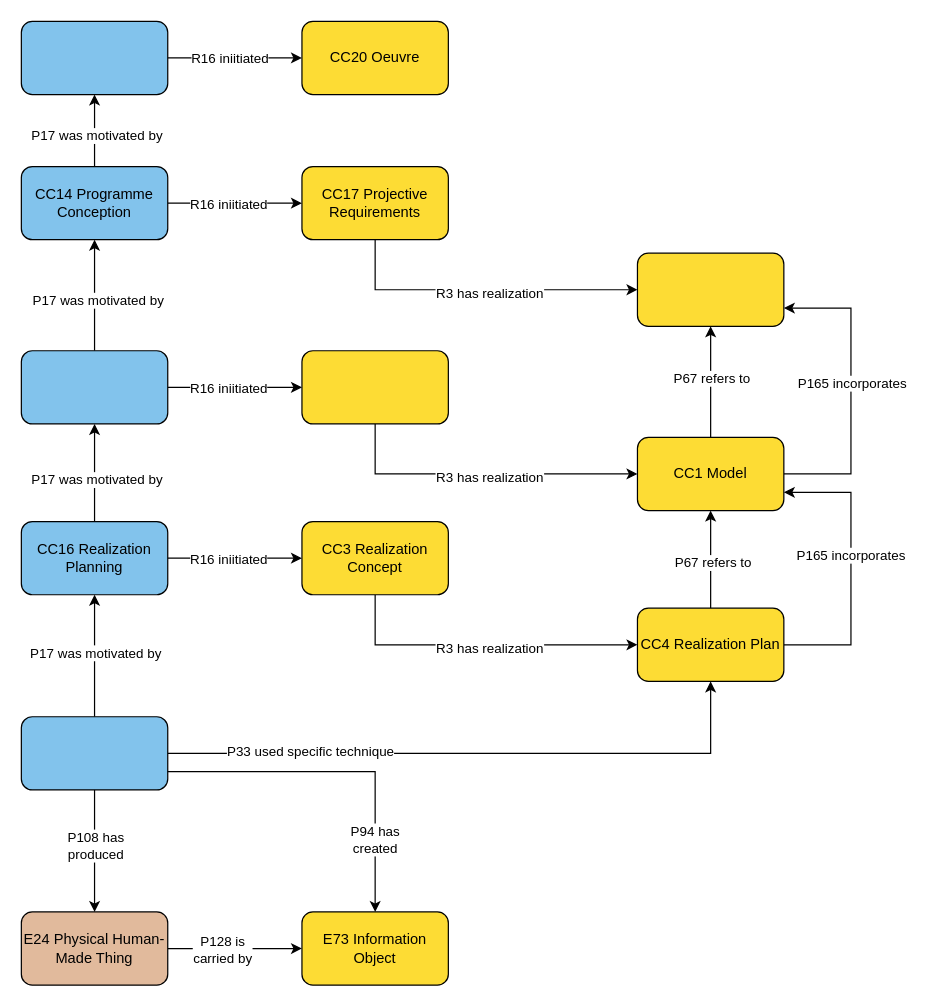
The diagram is 927 pixels wide and 1007 high, and some of its shapes have lost their labels. Each missing label, with the centre of its shape:
"CC13 Design Concept" belongs at [374,387].
"CC15 Design Conception" belongs at [94,387].
"CC2 Realization" belongs at [94,753].
"CC6 Programme" belongs at [710,289].
"CC9 Oeuvre Conception" belongs at [94,57].
